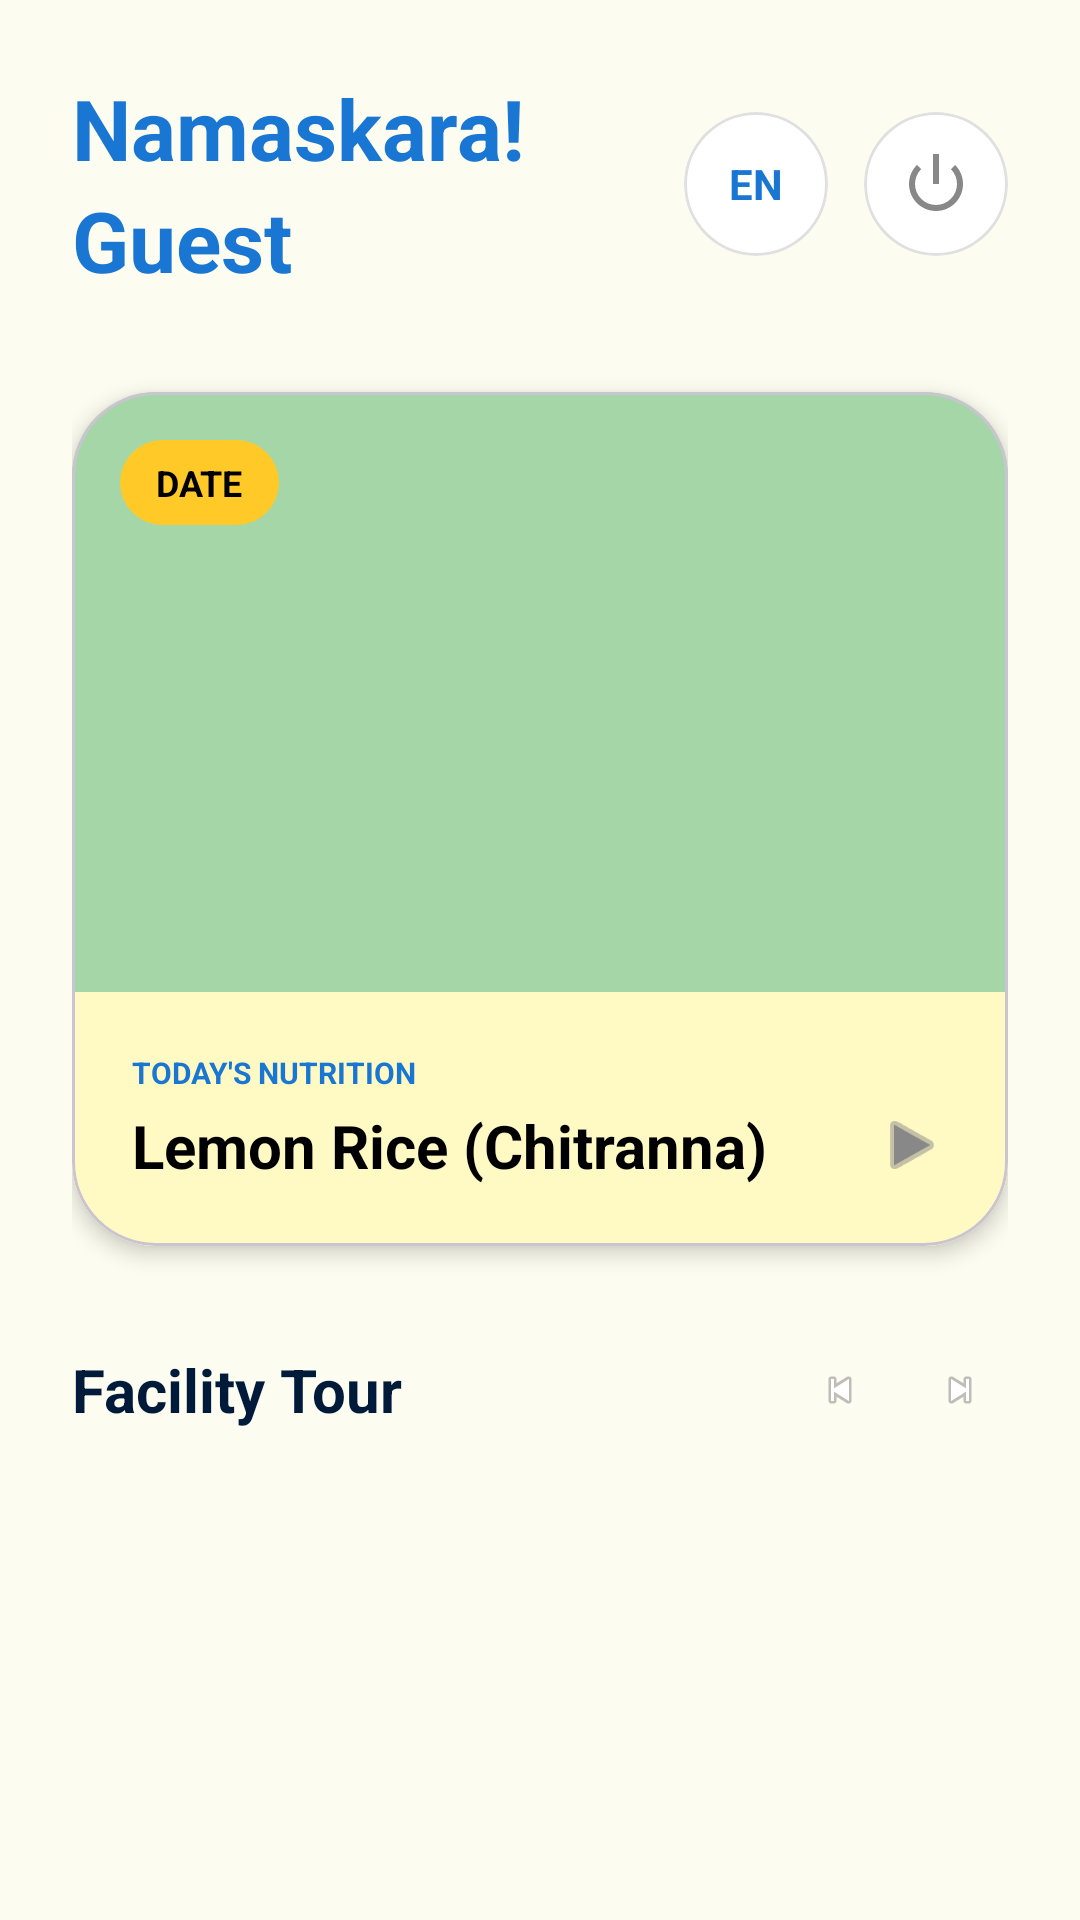

Where icons sit on this 1080×1920 app screen, as bbox(x1, y1, x2, y2):
lock power off: bbox(909, 154, 963, 211)
next: bbox(948, 1376, 972, 1404)
play: bbox(890, 1121, 934, 1169)
previous: bbox(828, 1376, 852, 1404)
